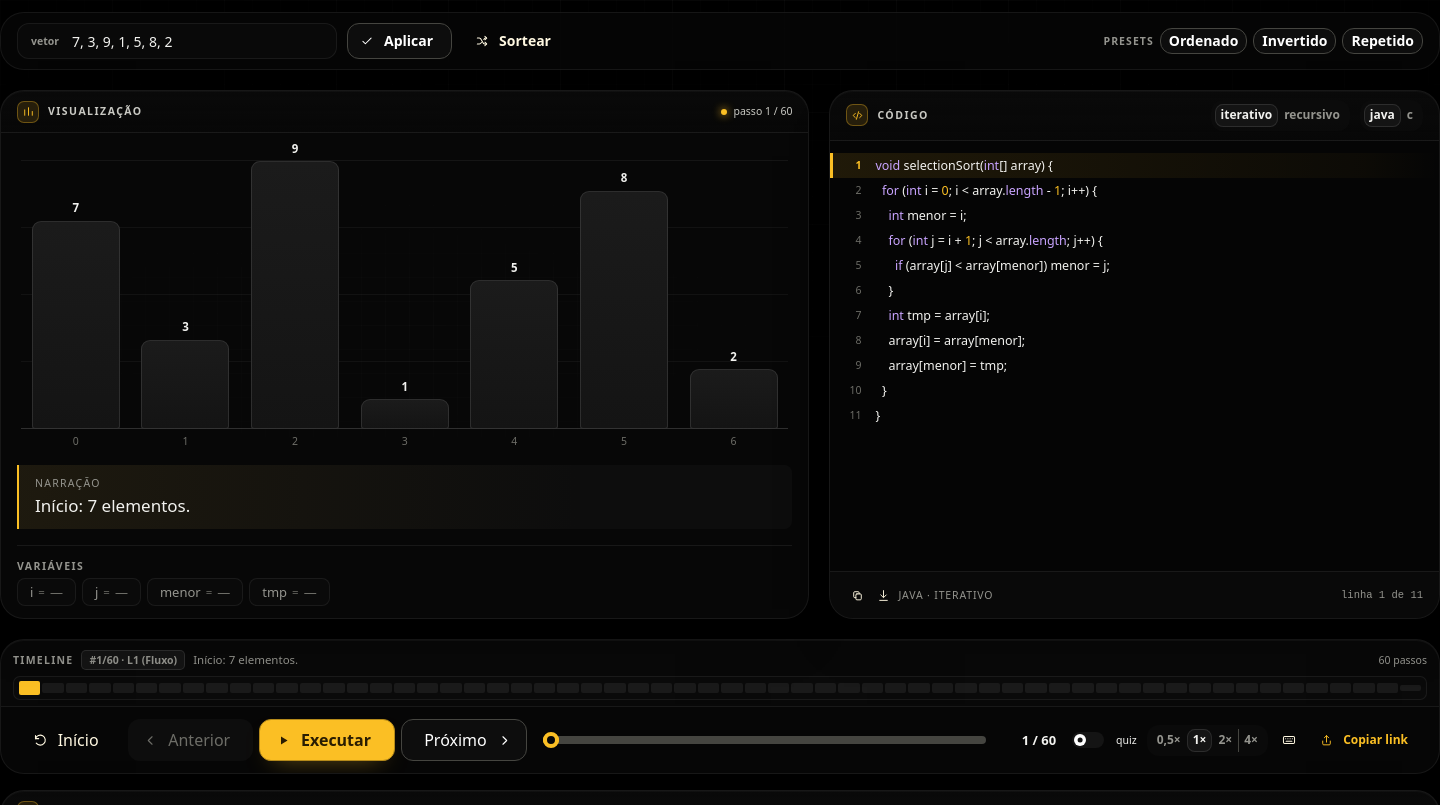
Test: LessonView input toolbar › applies a valid list and the ordering preset
Replace the text in the field named "valores" with "5, 2, 9": x=177, y=41 x1=17 y1=23 x2=337 y2=59
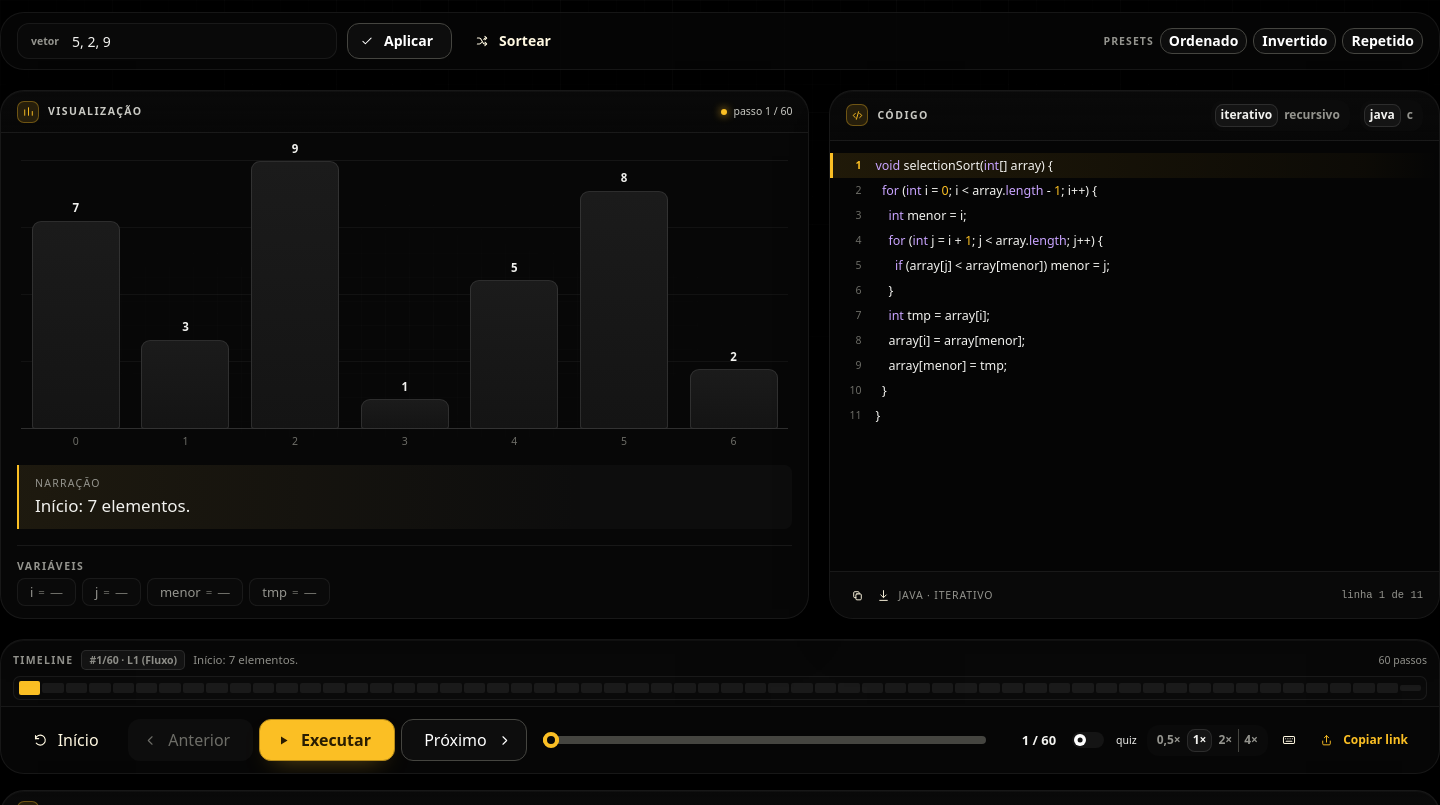
Click the button "Aplicar": x=400, y=41 x1=347 y1=23 x2=452 y2=59
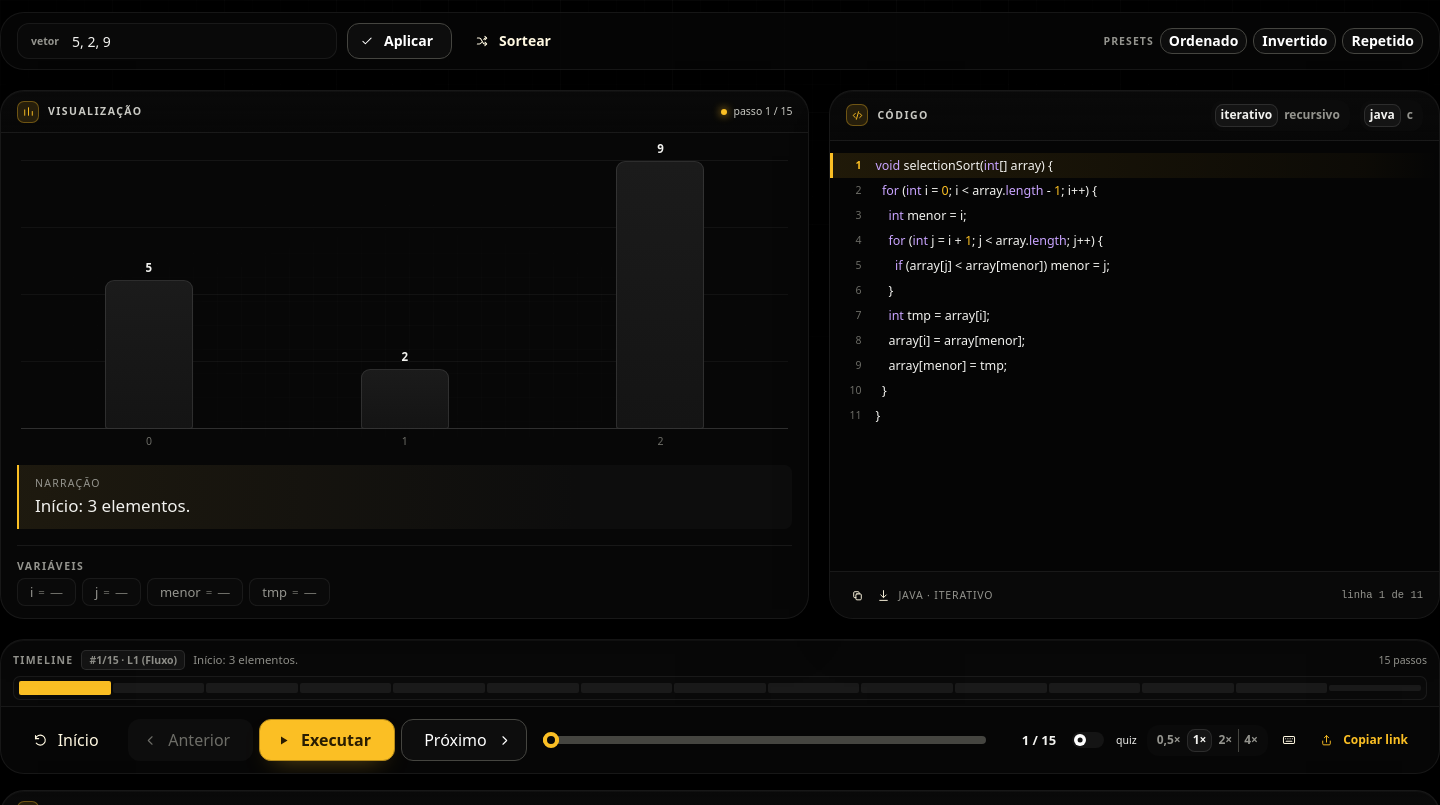
Click the button "Ordenado": x=1204, y=41 x1=1160 y1=28 x2=1247 y2=54
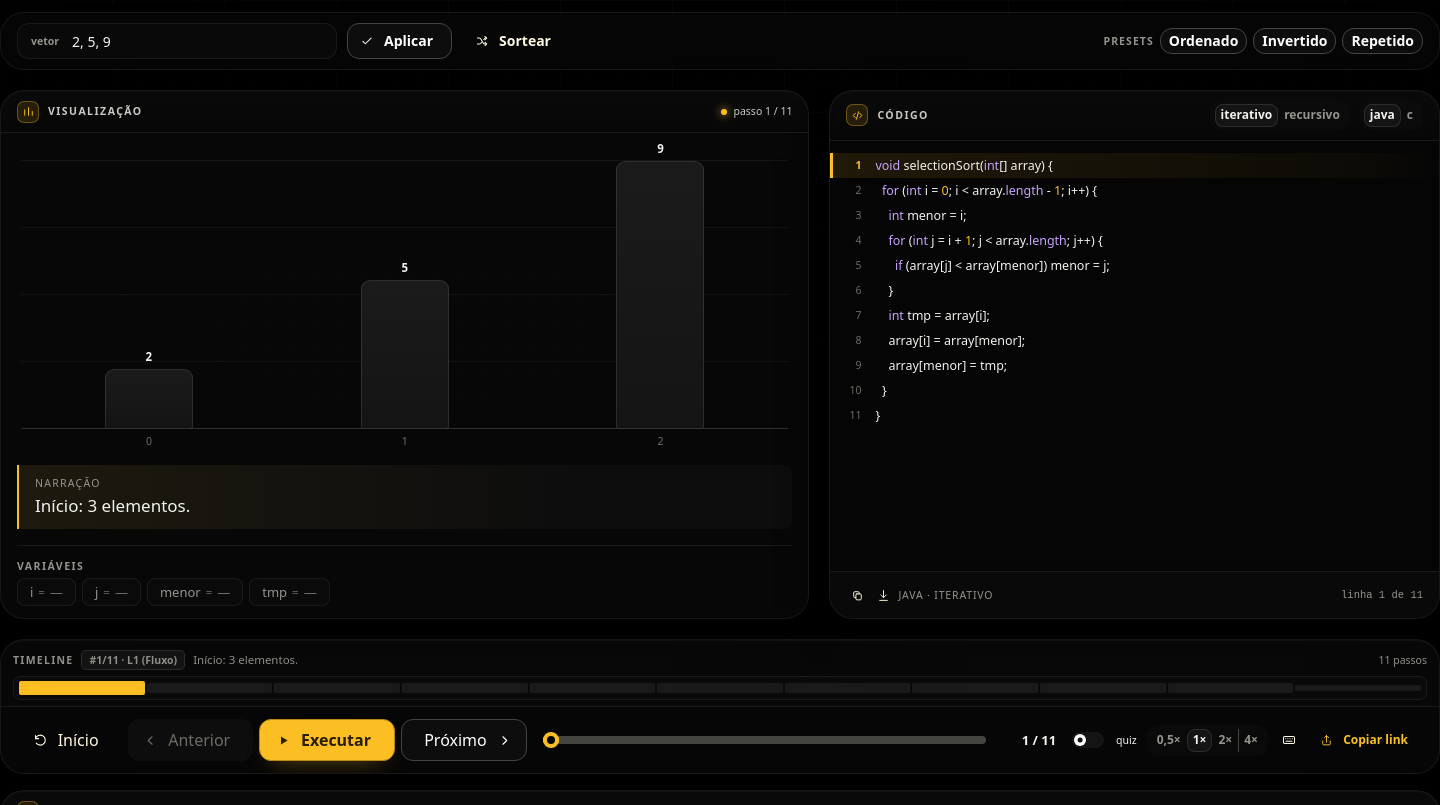
Expected: the field named "valores" holds "2, 5, 9", x1=17 y1=23 x2=337 y2=59
